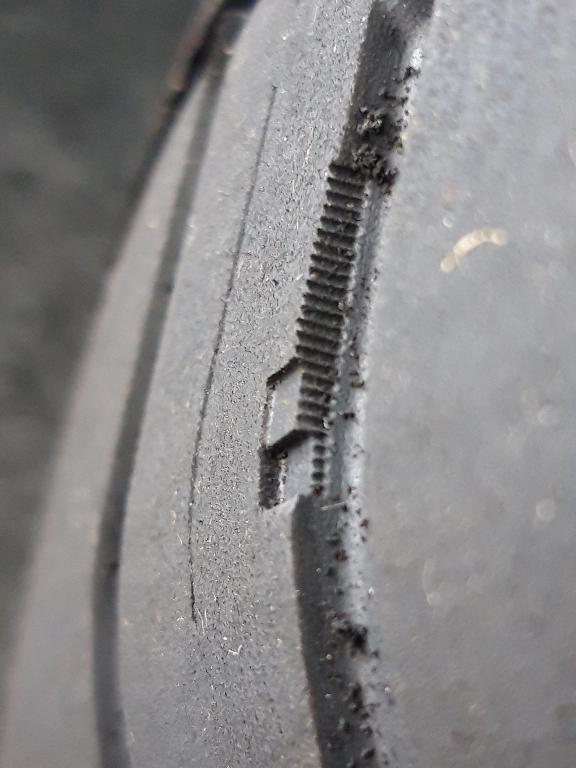temoin:25: (242, 342, 352, 527)
